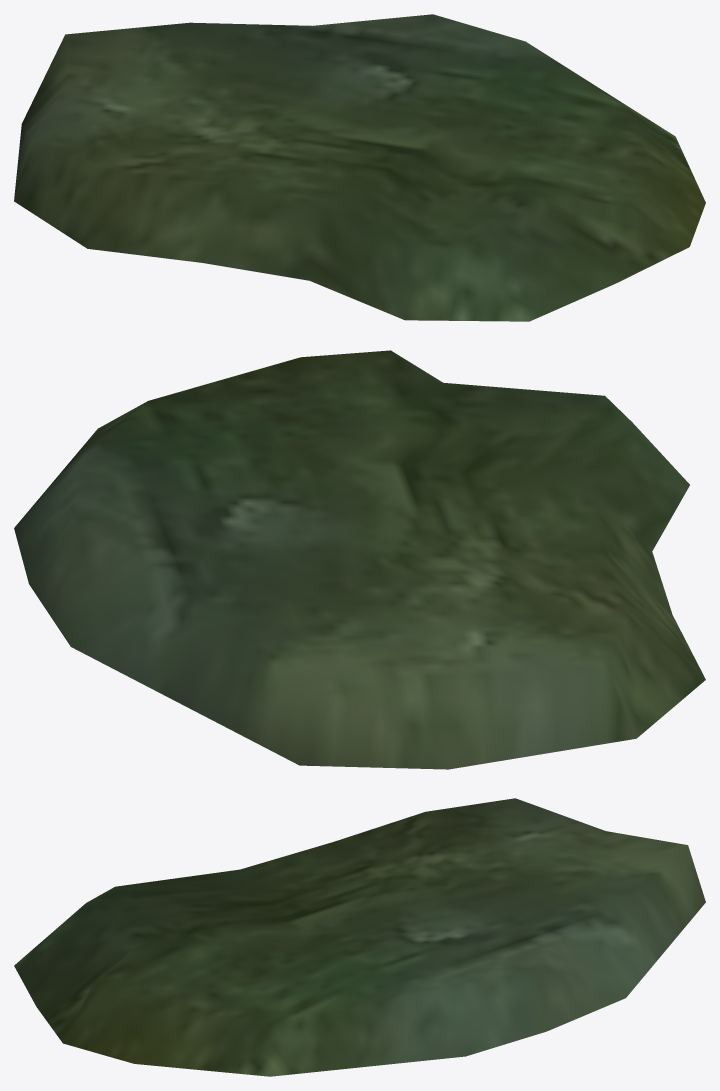
The picture shows the model from 3 angles, top to bottom: view 1: azimuth 30°, elevation 25°; view 2: azimuth 150°, elevation 25°; view 3: azimuth 270°, elevation 25°; orthographic projection. The views are drawn at different scales.
Parts seen in each view (by area): view 1: polySurface2464; view 2: polySurface2464; view 3: polySurface2464.
Part boxes in pixels (box(x1,y1,x2,y2)): polySurface2464: box(14, 14, 705, 321); polySurface2464: box(14, 350, 705, 769); polySurface2464: box(14, 798, 705, 1076).
Bounding box in the file's own units: 4.68 × 0.6412 × 5.29.
